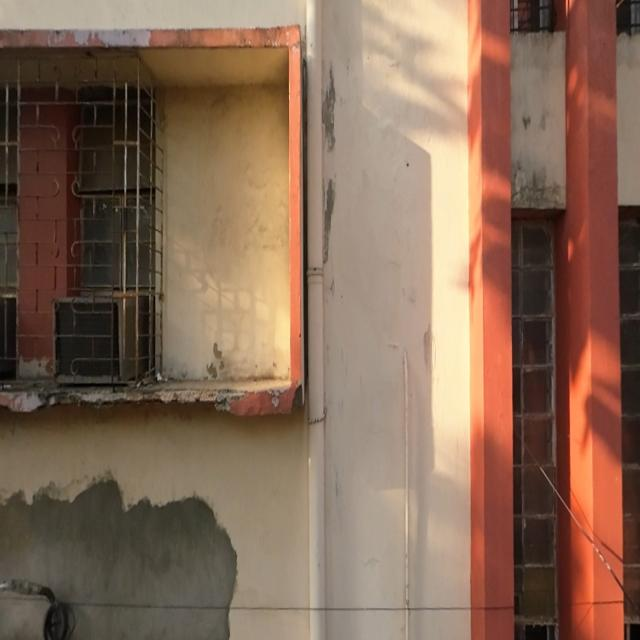spalling: (0, 480, 237, 639), (0, 376, 291, 414)
stain_mould: (151, 25, 297, 46), (511, 156, 565, 209)
